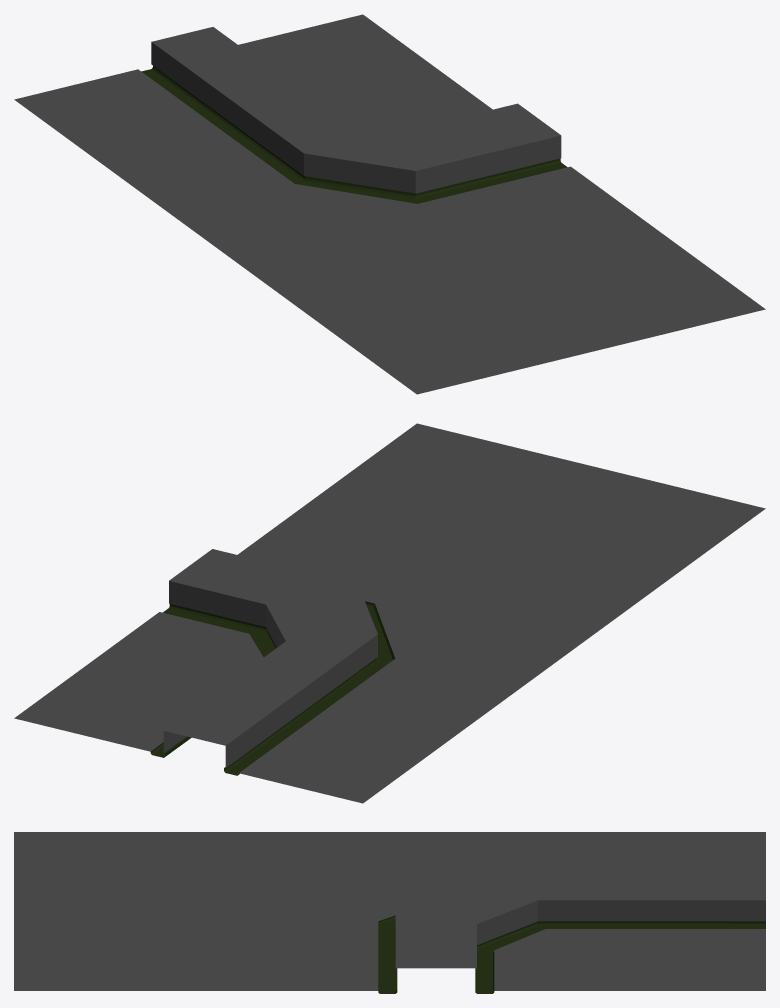
The model's file is MSG_Lr_ceiling.FBX.
The picture shows the model from 3 angles, top to bottom: view 1: azimuth 30°, elevation 25°; view 2: azimuth 150°, elevation 25°; view 3: azimuth 270°, elevation 25°; orthographic projection. The views are drawn at different scales.
Visible parts, largest first — view 1: Plane056; view 2: Plane056; view 3: Plane056.
Part boxes in pixels (x1,y1,x2,y2): Plane056: (14,14,765,394); Plane056: (14,423,765,803); Plane056: (14,832,765,993).
Bounding box in the file's own units: 550 × 40.97 × 1100.
